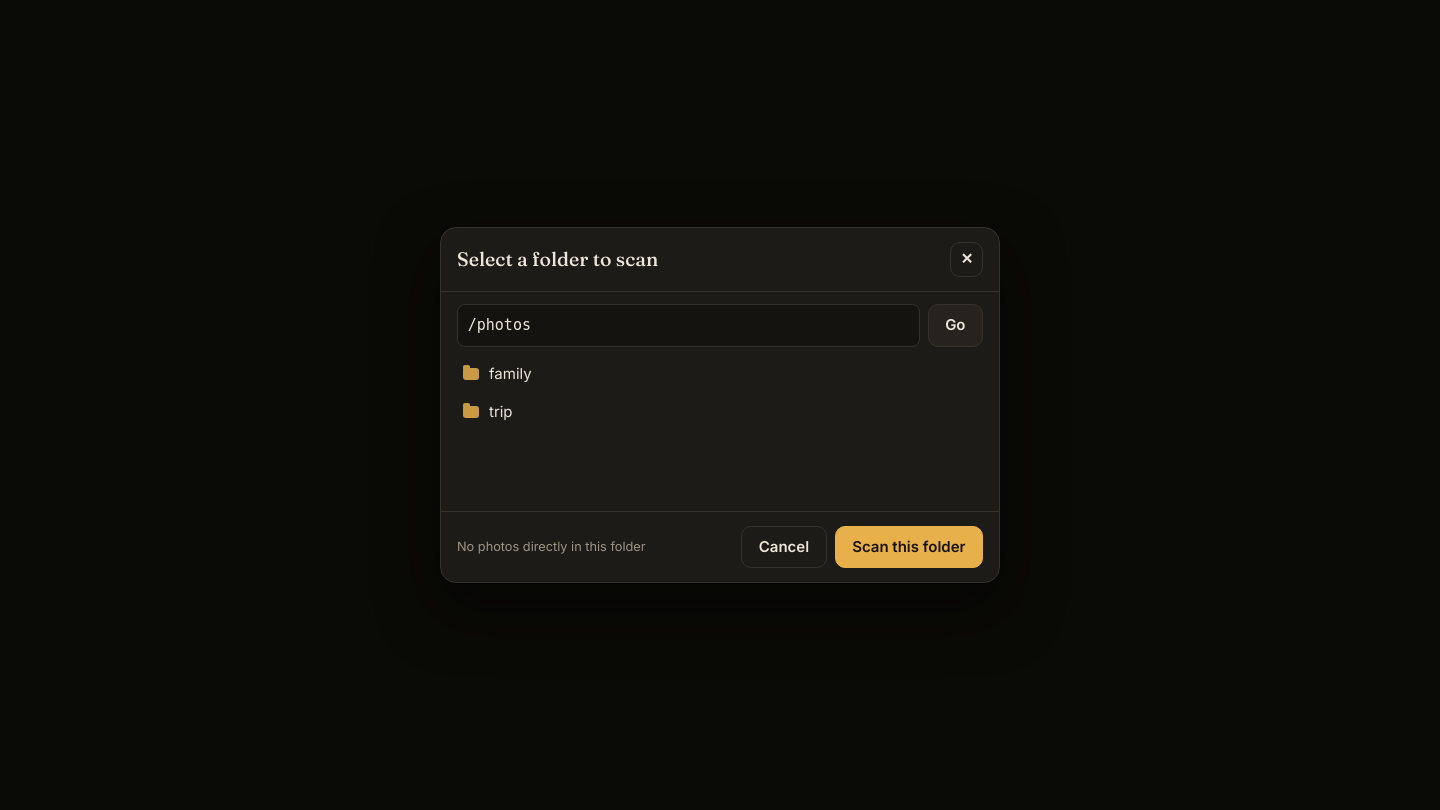
Test: FolderDialog › jumps to a typed path
Expected: the button "trip" is shown, [453,393,987,432]
Replace the text in the field named "Folder path" with "/photos/trip": (688, 325) [457,304,920,346]
Then press Enter
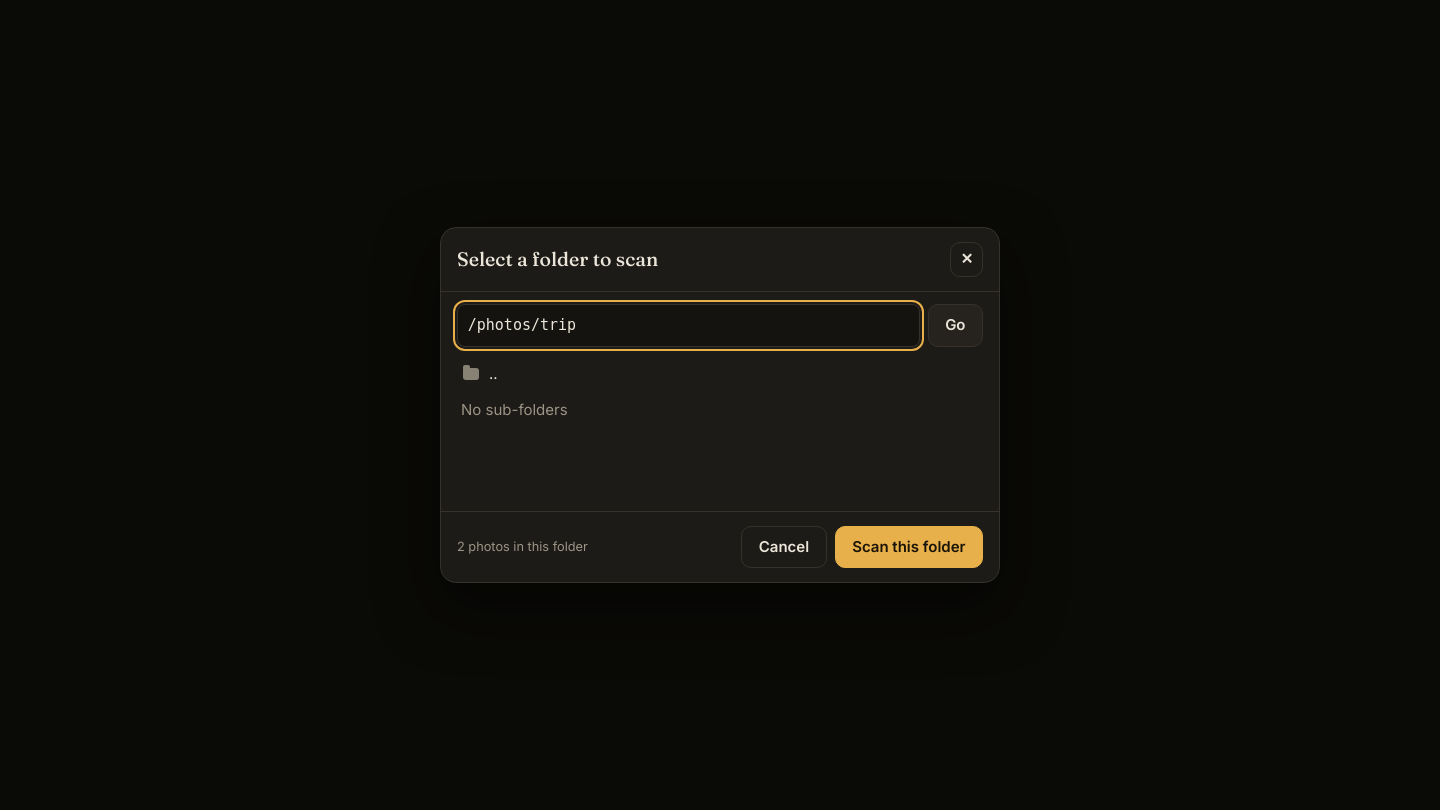
Now the text "2 photos in this folder" is shown, box [457,537,588,556]
